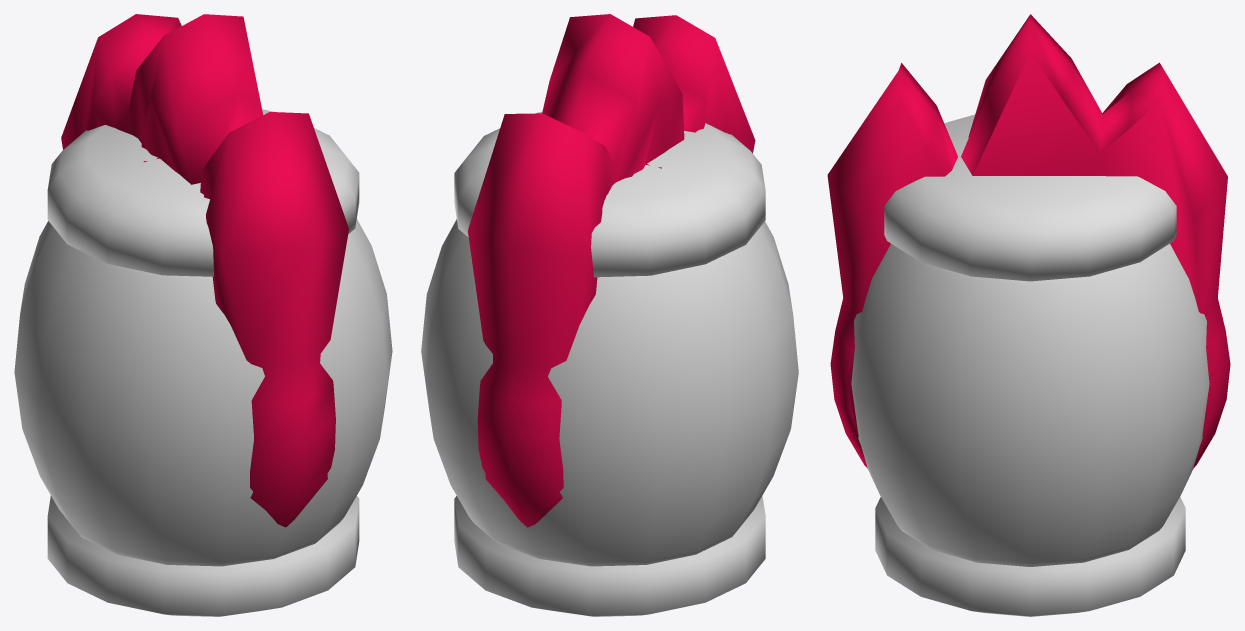
Rendered from Fire.fbx.
3 views of the same model, side by side, from view 1: azimuth 30°, elevation 25°; view 2: azimuth 150°, elevation 25°; view 3: azimuth 270°, elevation 25° (orthographic).
Visible parts, largest first — view 1: Cylinder, Cylinder.003, Cylinder.001, Cylinder.002; view 2: Cylinder, Cylinder.003, Cylinder.001, Cylinder.002; view 3: Cylinder, Cylinder.003, Cylinder.001, Cylinder.002.
Boxes of the visible parts, x1,y1,x2,y2 form: Cylinder: (14,219,392,566); Cylinder.003: (61,14,348,527); Cylinder.001: (47,109,359,276); Cylinder.002: (47,496,359,616); Cylinder: (421,219,798,566); Cylinder.003: (468,14,755,527); Cylinder.001: (454,111,765,277); Cylinder.002: (454,496,765,616); Cylinder: (851,243,1209,566); Cylinder.003: (827,14,1230,468); Cylinder.001: (884,114,1176,281); Cylinder.002: (875,497,1185,616).
Size of the model in its own units: 206 by 330 by 221.
